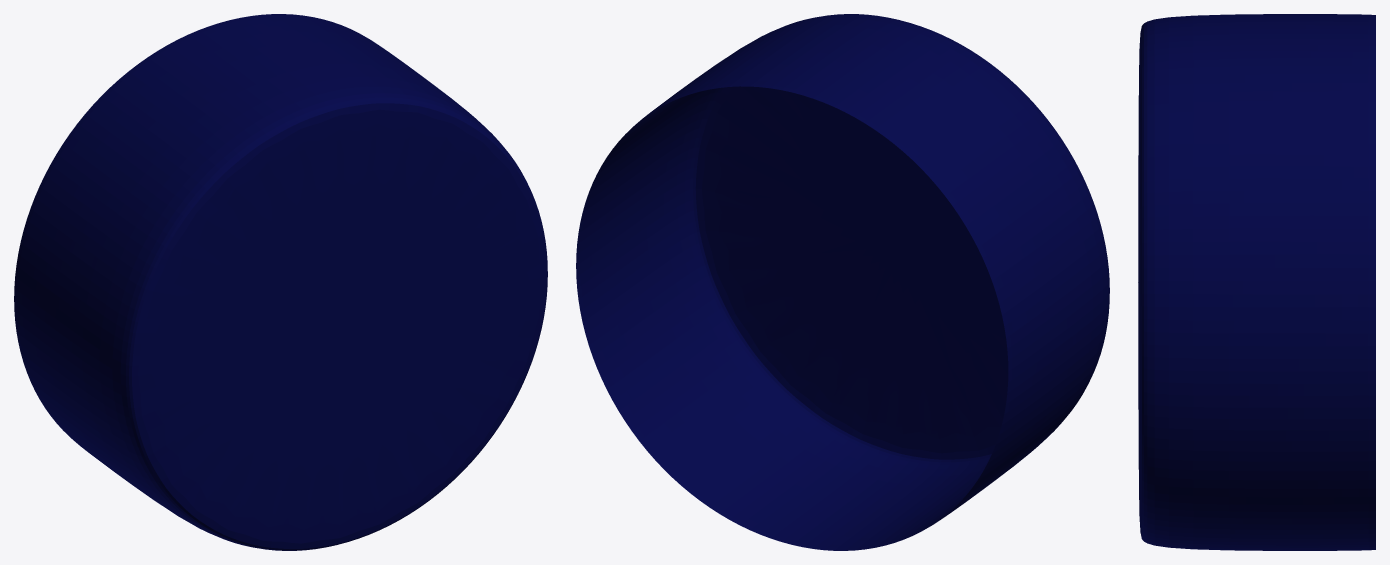
The model's file is plastic_cap.obj.
3 renders of one model, left to right at view 1: azimuth 30°, elevation 25°; view 2: azimuth 150°, elevation 25°; view 3: azimuth 270°, elevation 25°, orthographic. The views are drawn at different scales.
Visible parts, largest first — view 1: plastic_cap; view 2: plastic_cap; view 3: plastic_cap.
Boxes of the visible parts, box(x1,y1,x2,y2) form: plastic_cap: box(14, 14, 547, 550); plastic_cap: box(576, 14, 1109, 550); plastic_cap: box(1138, 14, 1375, 550).
Bounding box in the file's own units: 0.0273 × 0.0273 × 0.0121.
